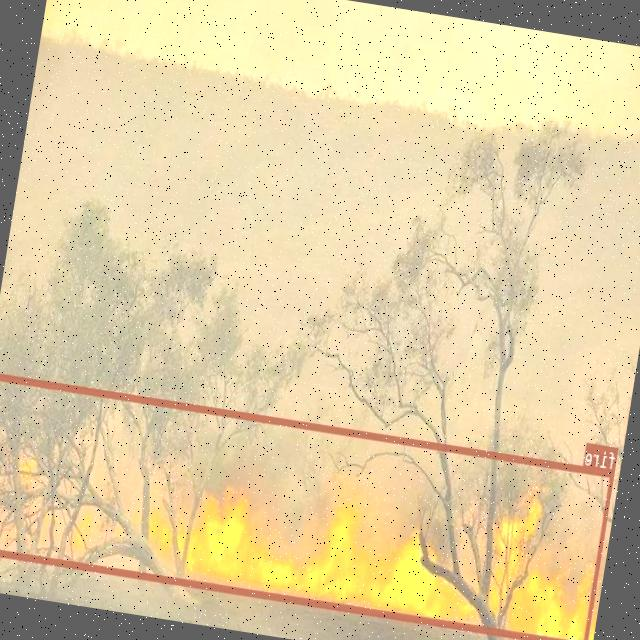fire: (0, 373, 615, 640)
